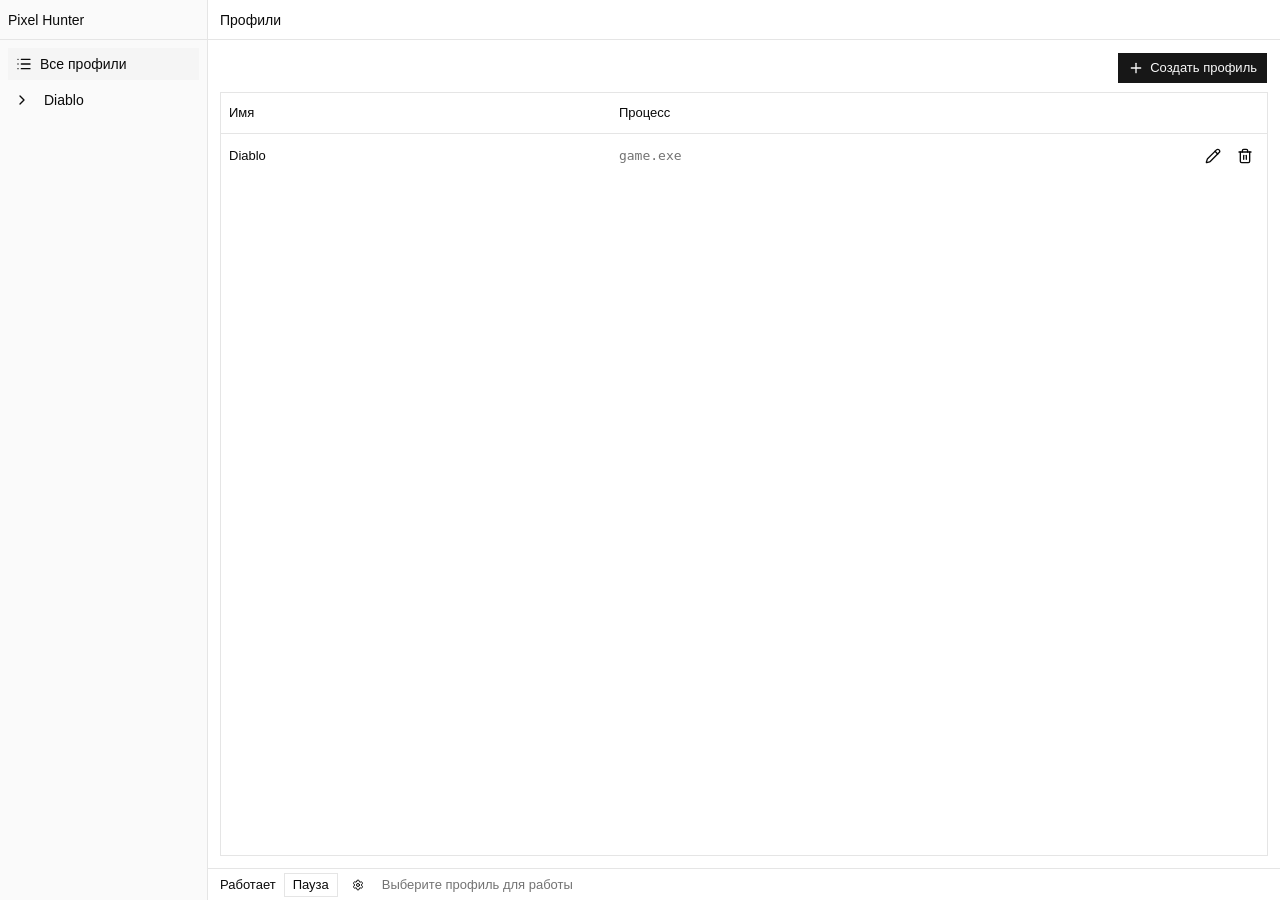
Test: ProfilesPage › opens a profile and returns to the list
What coordinates should you click on to do the following:
click the link "Diablo" in the row of "game.exe"
I would click on:
 (247, 155)
Its box is 229,148 -> 266,162.
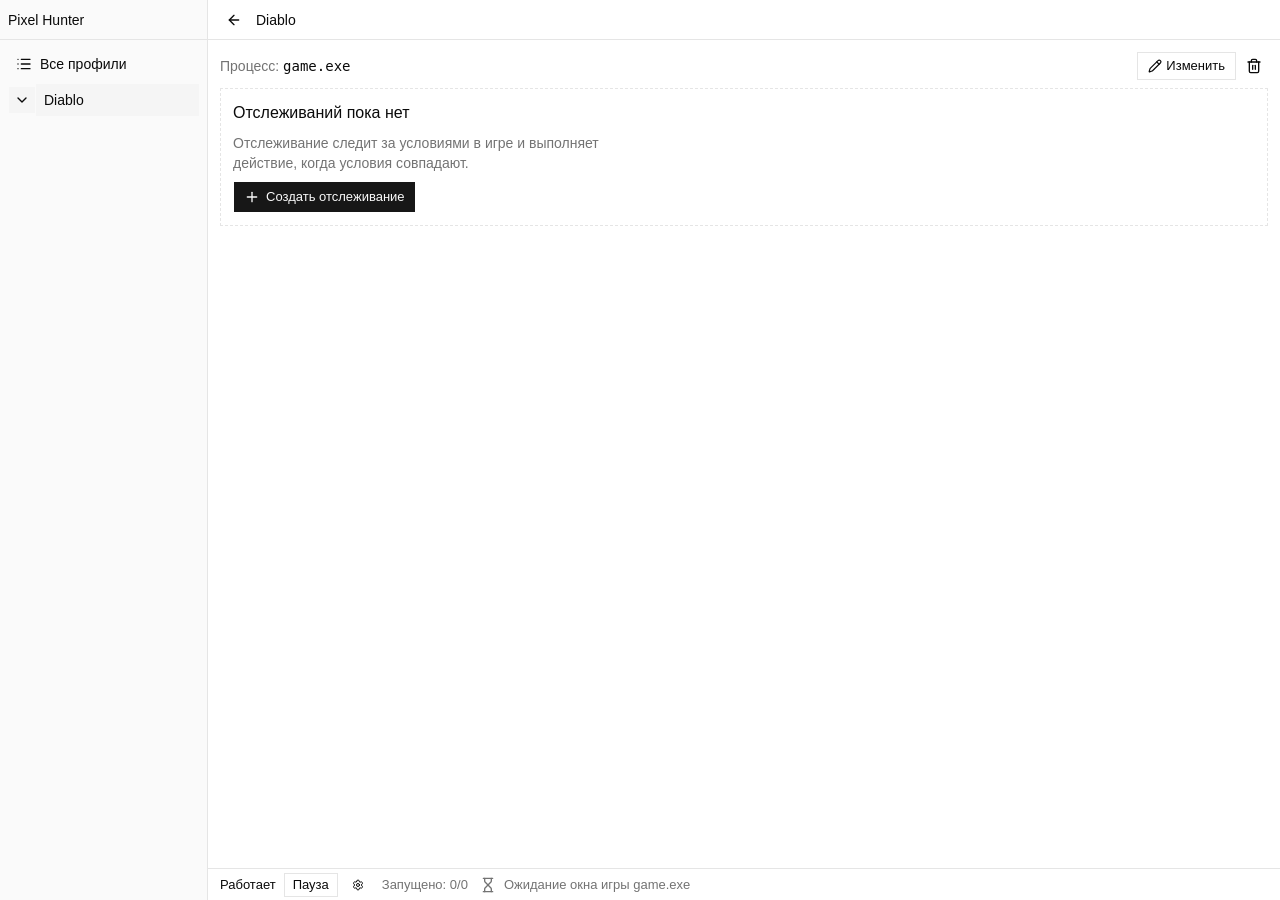
Expected: the heading "Diablo" is shown, 256,10 -> 296,30
Expected: the heading "Отслеживаний пока нет" is shown, 233,101 -> 410,125
What coordinates should you click on to do the following:
click the link named "Назад"
I would click on:
 (234, 20)
Its box is 226,12 -> 242,28.
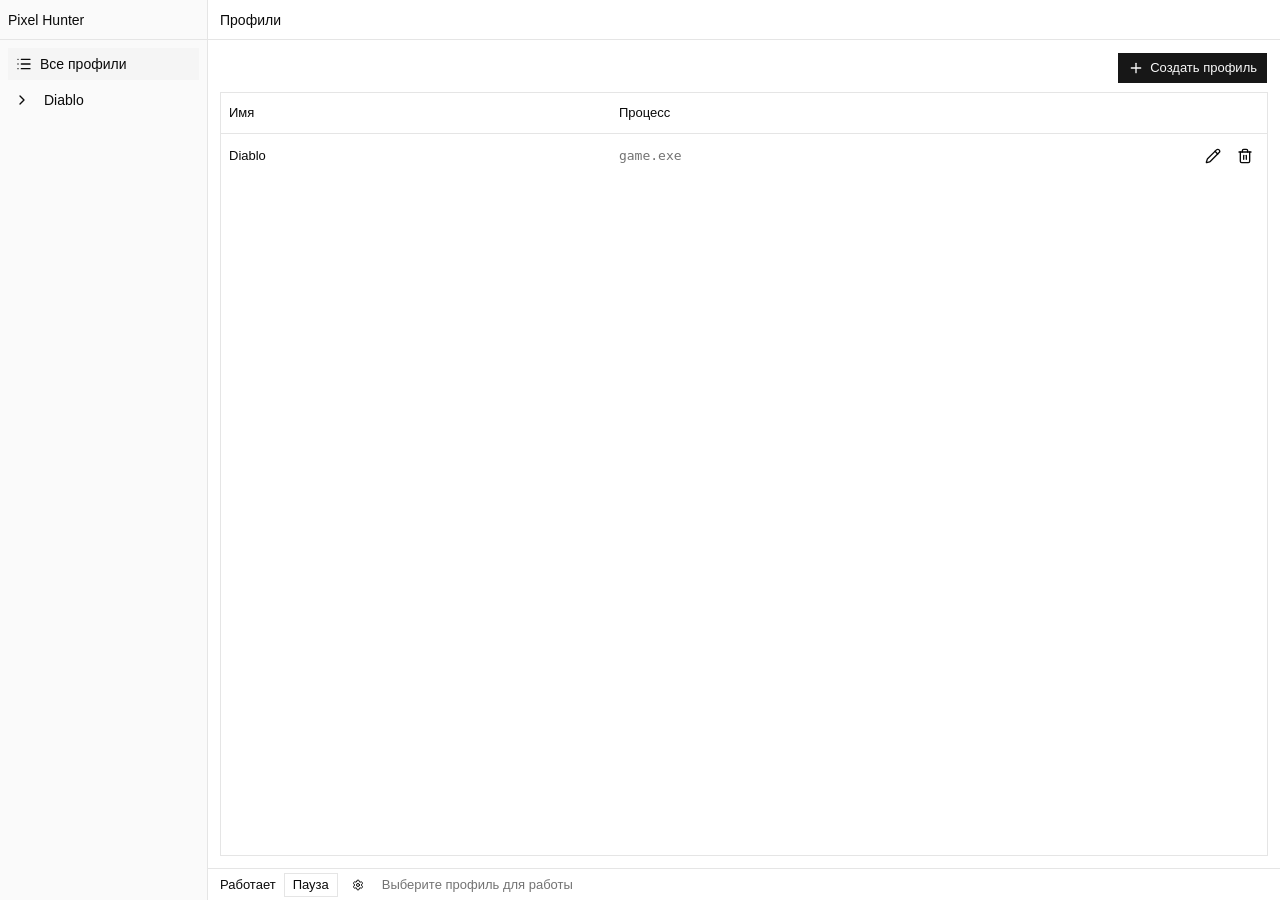
Expected: the link "Diablo" in the row of "game.exe" is shown, 229,148 -> 266,162
Expected: the heading "Профили" is shown, 220,10 -> 281,30
